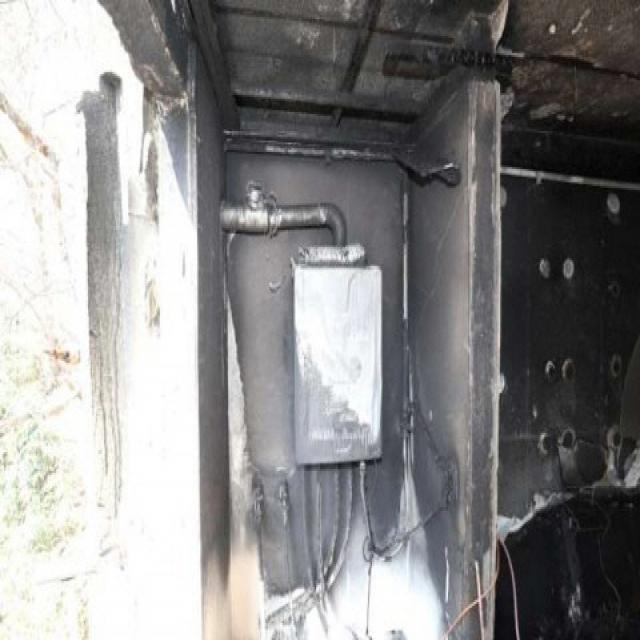Boiler: (275, 215, 401, 521)
